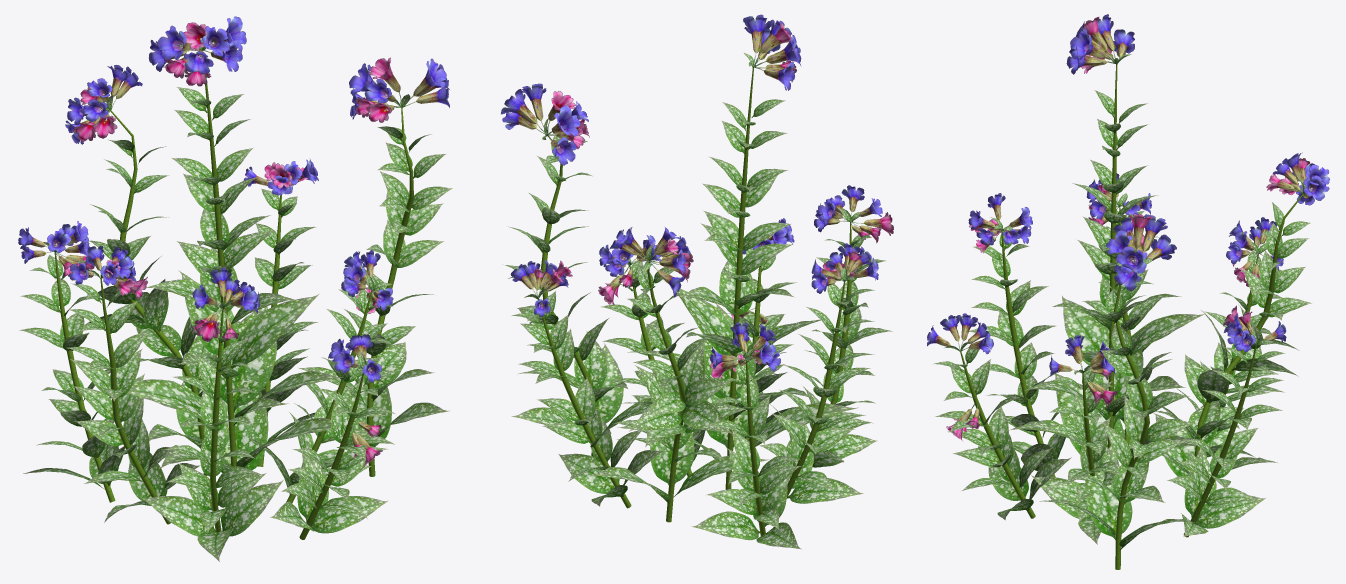
3 views of the same model, side by side, from view 1: azimuth 30°, elevation 25°; view 2: azimuth 150°, elevation 25°; view 3: azimuth 270°, elevation 25° (orthographic). The views are drawn at different scales.
Parts seen in each view (by area): view 1: Leaf_2_spring_3, Flower_Blue_spring_1, Bark_spring_0, Flower_Pink_spring_2; view 2: Leaf_2_spring_3, Flower_Blue_spring_1, Bark_spring_0, Flower_Pink_spring_2; view 3: Leaf_2_spring_3, Flower_Blue_spring_1, Bark_spring_0, Flower_Pink_spring_2.
Boxes of the visible parts, x1=… form: Leaf_2_spring_3: x1=19, y1=47, x2=452, y2=561; Flower_Blue_spring_1: x1=18, y1=16, x2=449, y2=382; Bark_spring_0: x1=54, y1=77, x2=413, y2=539; Flower_Pink_spring_2: x1=55, y1=22, x2=401, y2=467; Leaf_2_spring_3: x1=502, y1=52, x2=892, y2=549; Flower_Blue_spring_1: x1=501, y1=14, x2=882, y2=371; Bark_spring_0: x1=537, y1=67, x2=851, y2=535; Flower_Pink_spring_2: x1=531, y1=21, x2=893, y2=379; Leaf_2_spring_3: x1=933, y1=54, x2=1312, y2=550; Flower_Blue_spring_1: x1=927, y1=14, x2=1329, y2=376; Bark_spring_0: x1=960, y1=64, x2=1303, y2=569; Flower_Pink_spring_2: x1=946, y1=17, x2=1309, y2=440.
Size of the model in its own units: 0.6882 by 0.8568 by 0.671.
4 materials, 4 textured.
